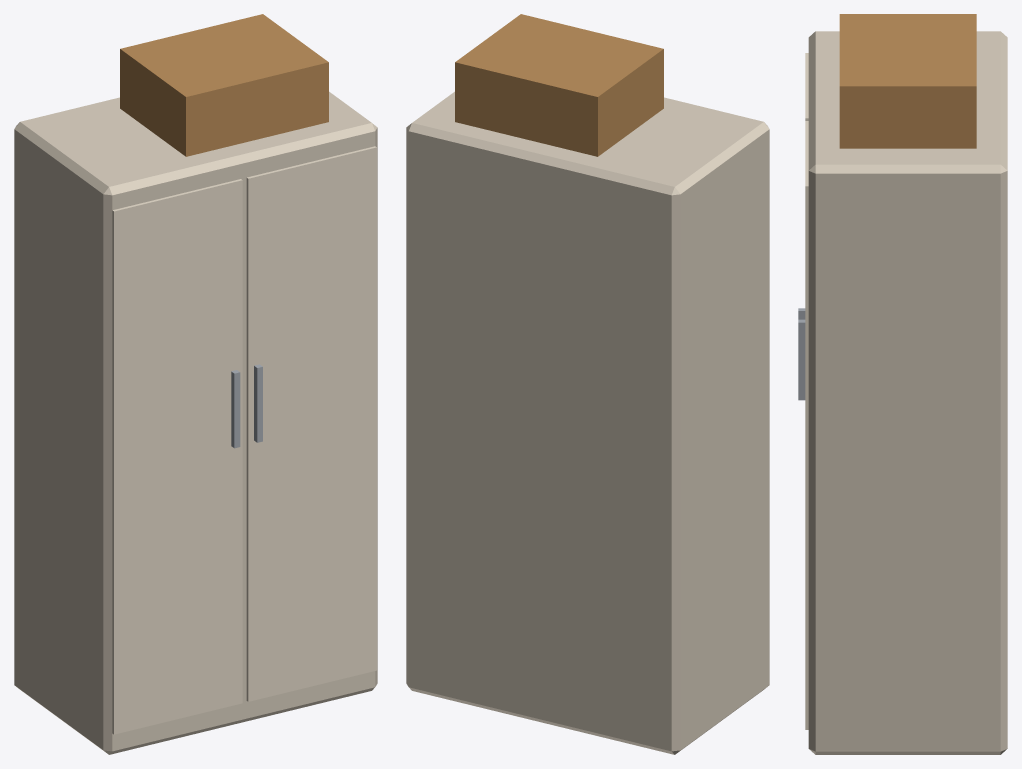
Rendered from wardrobe.glb.
3 renders of one model, left to right at view 1: azimuth 30°, elevation 25°; view 2: azimuth 150°, elevation 25°; view 3: azimuth 270°, elevation 25°, orthographic. The views are drawn at different scales.
Parts seen in each view (by area): view 1: wardrobe_mesh; view 2: wardrobe_mesh; view 3: wardrobe_mesh.
Boxes of the visible parts, box(x1,y1,x2,y2) form: wardrobe_mesh: box(14, 14, 377, 754); wardrobe_mesh: box(406, 14, 769, 754); wardrobe_mesh: box(798, 14, 1007, 754).
Bounding box in the file's own units: 0.96 × 2.1 × 0.61.
